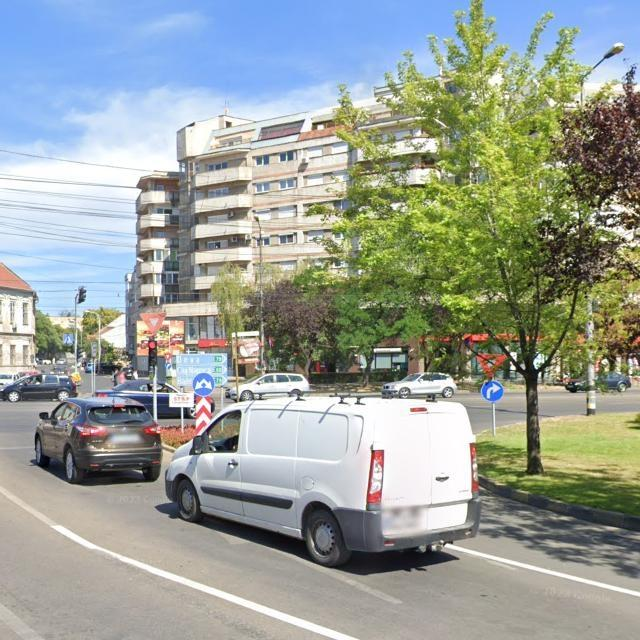info_crosswalk: (63, 334, 73, 345)
prio_give_way: (475, 353, 509, 378), (139, 312, 166, 337)
